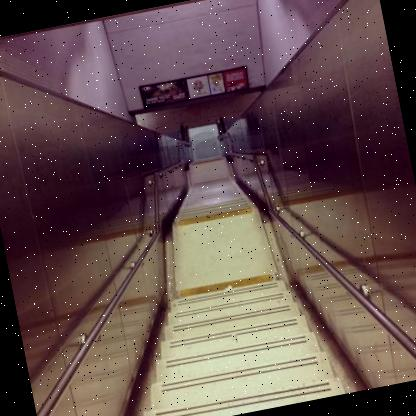stair: (97, 196, 334, 416)
